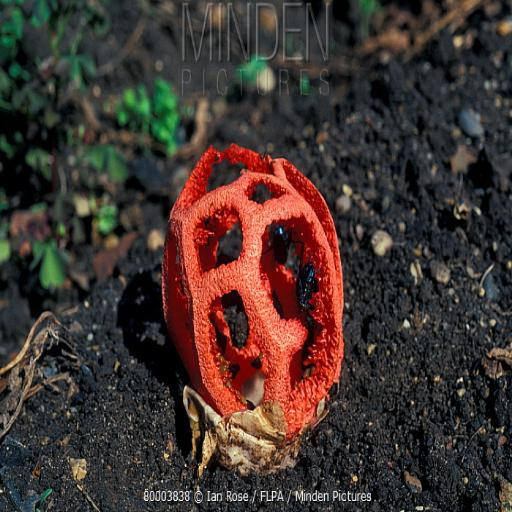Red Cage Fungus: (161, 140, 345, 463)
